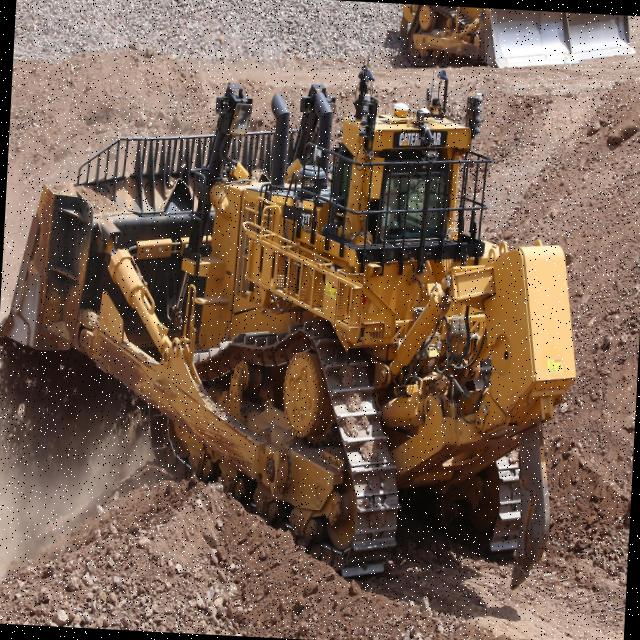Bulldozer: (0, 57, 609, 640)
